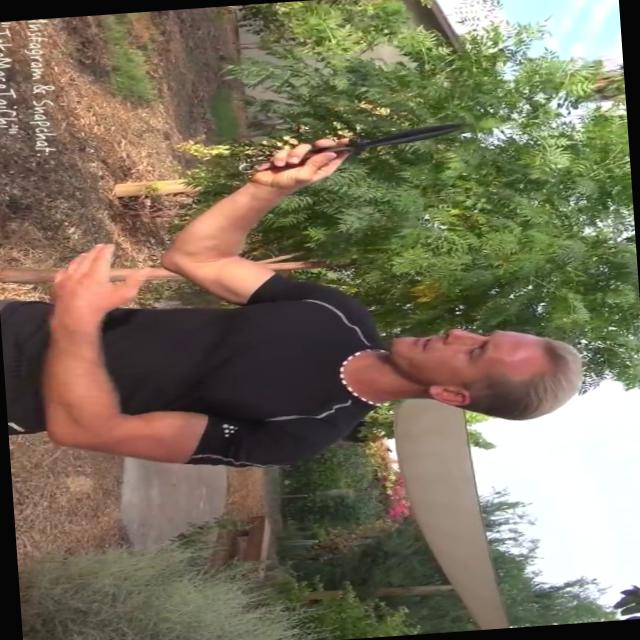knife: (244, 112, 483, 180)
